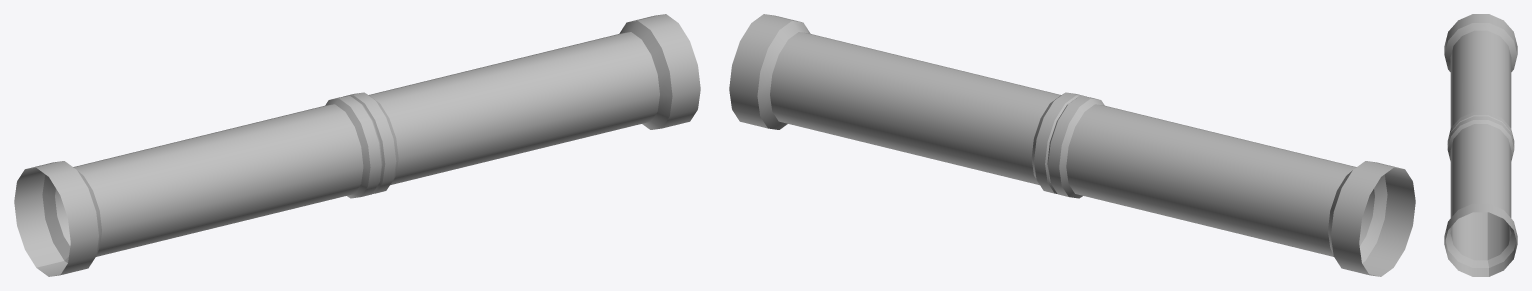
Rendered from KF_SM_Spipe002.fbx.
The picture shows the model from 3 angles, left to right: view 1: azimuth 30°, elevation 25°; view 2: azimuth 150°, elevation 25°; view 3: azimuth 270°, elevation 25°; orthographic projection. The views are drawn at different scales.
Visible parts, largest first — view 1: KF_SM_Spipe002; view 2: KF_SM_Spipe002; view 3: KF_SM_Spipe002.
Part boxes in pixels (x1,y1,x2,y2): KF_SM_Spipe002: (14, 14, 700, 276); KF_SM_Spipe002: (729, 14, 1415, 276); KF_SM_Spipe002: (1444, 14, 1517, 276).
Bounding box in the file's own units: 1883 × 286 × 293.
